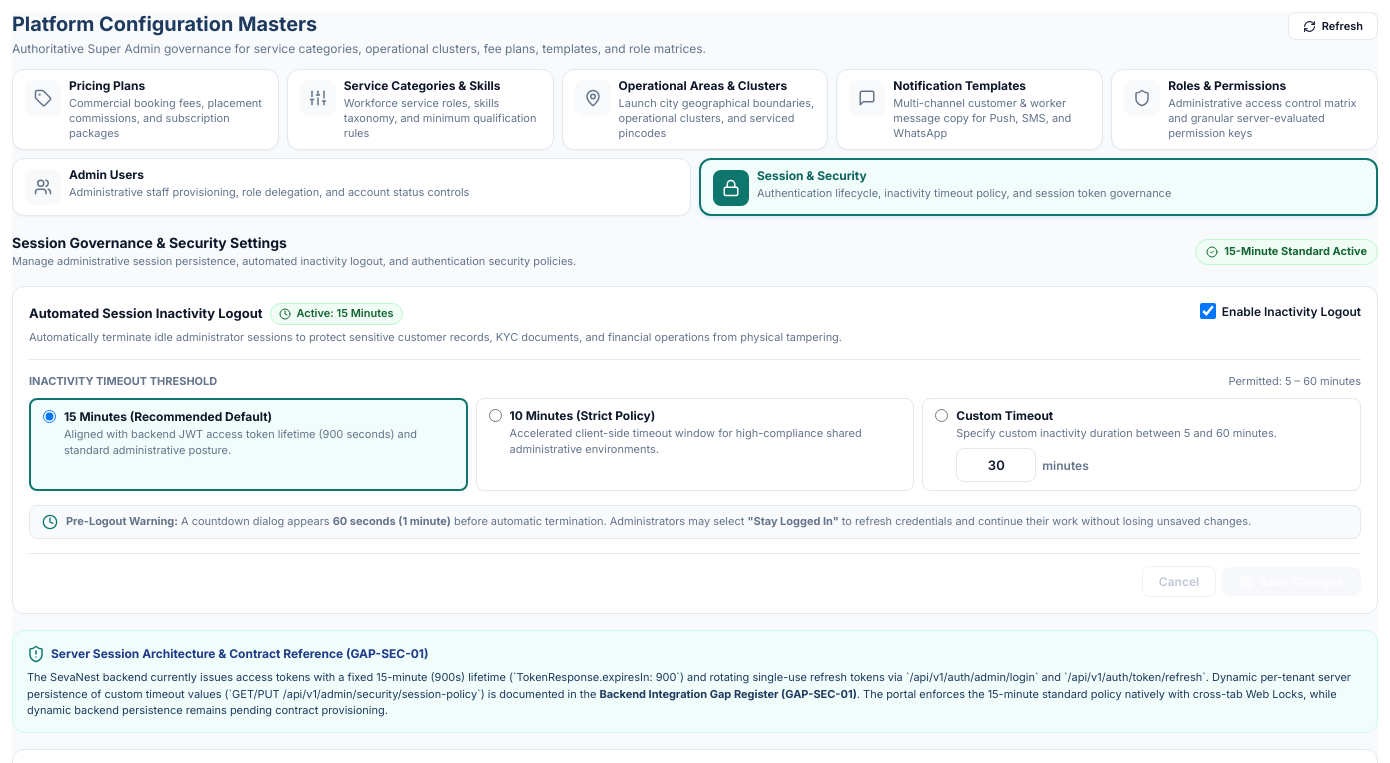
it: Custom Session Inactivity Timeout Configuration & Guard Enforcement › 1. Active Timeout Display & Quick Selections › allows changing timeout to 10 minutes and saving policy
Click the radio button with test id "timeout-option-10" at (495, 415), box [489,409,502,422]
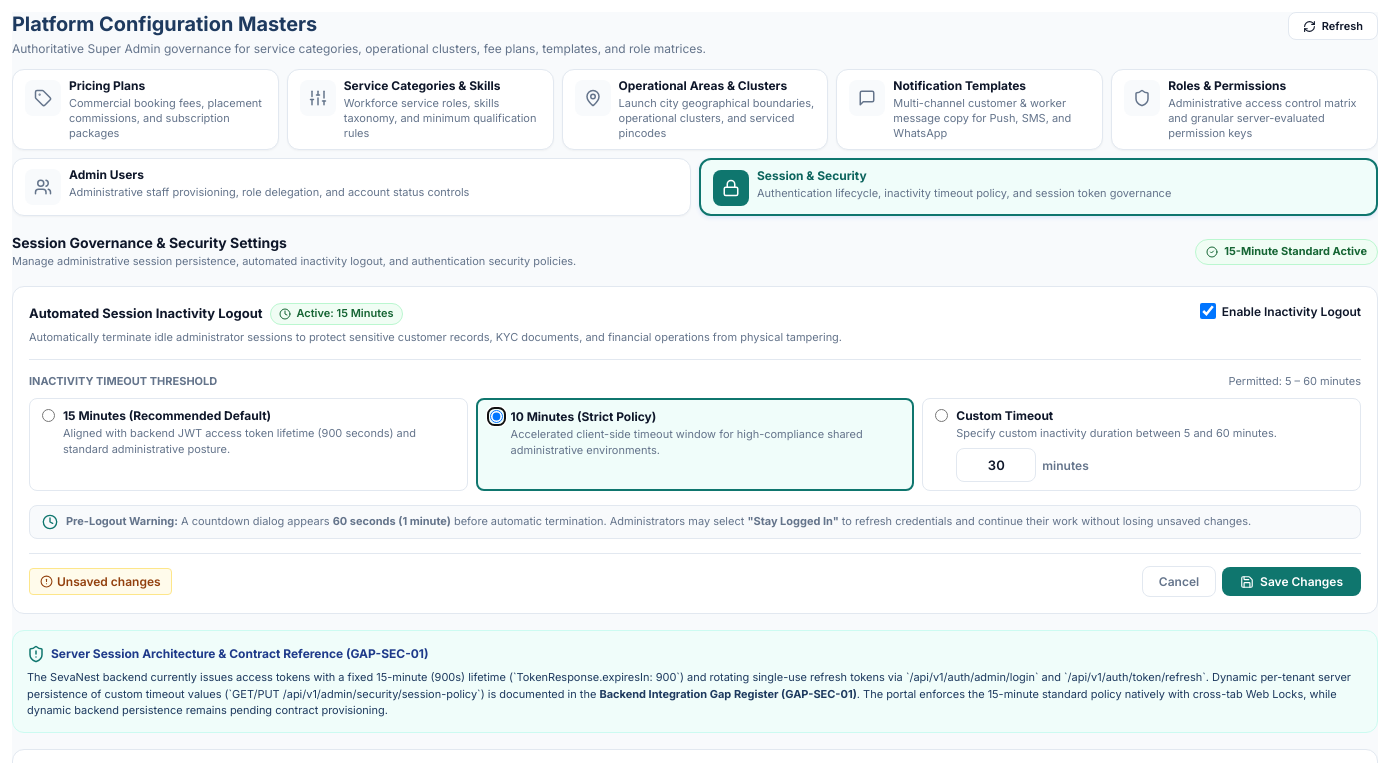
Check: the element with test id "unsaved-changes-indicator" is shown, box [29,568,172,595]
Check: the button with test id "save-security-policy-btn" is enabled
Click the button with test id "save-security-policy-btn" at (1292, 582), box [1222,567,1361,596]
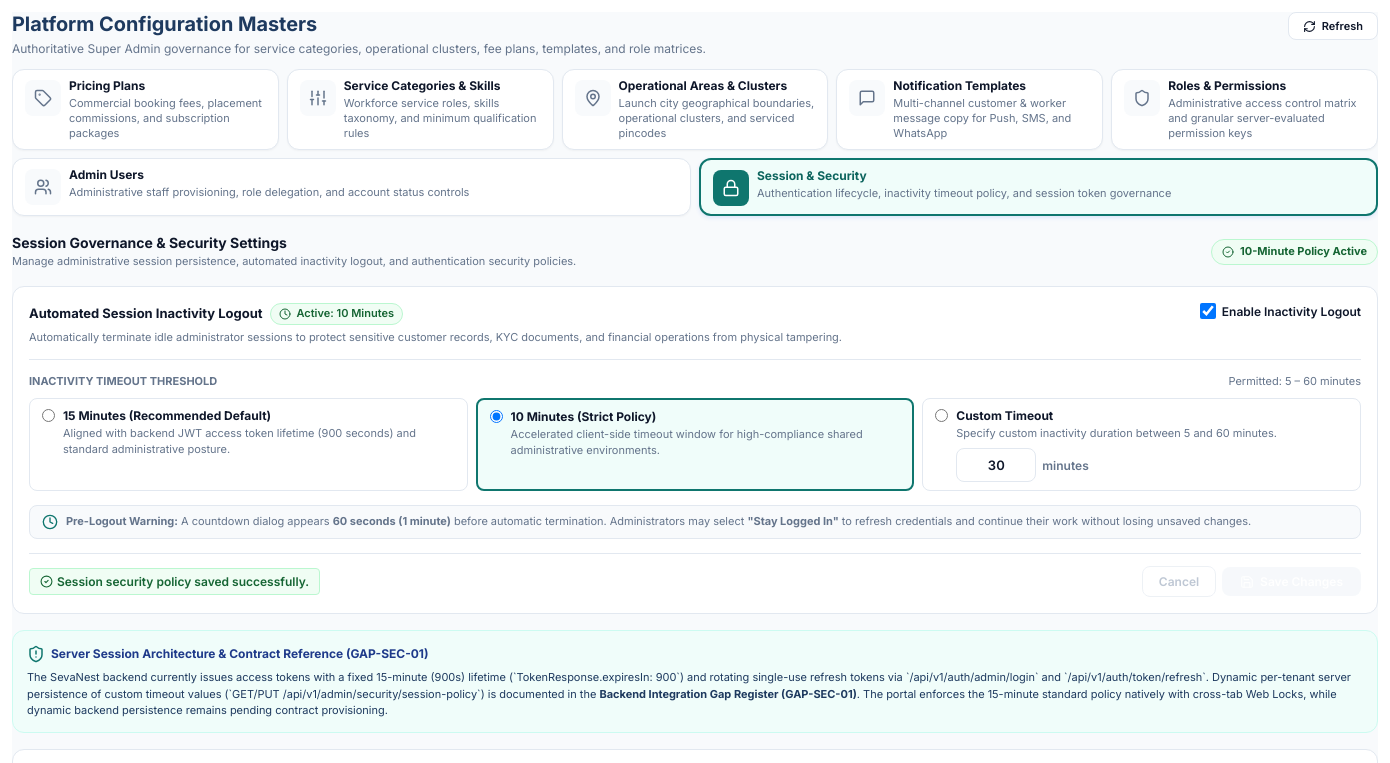
Check: the element with test id "save-feedback-message" shows "Session security policy saved successfully", box [57,574,309,589]
Check: the element with test id "active-timeout-badge" reads "Active: 10 Minutes", box [270,303,403,324]
